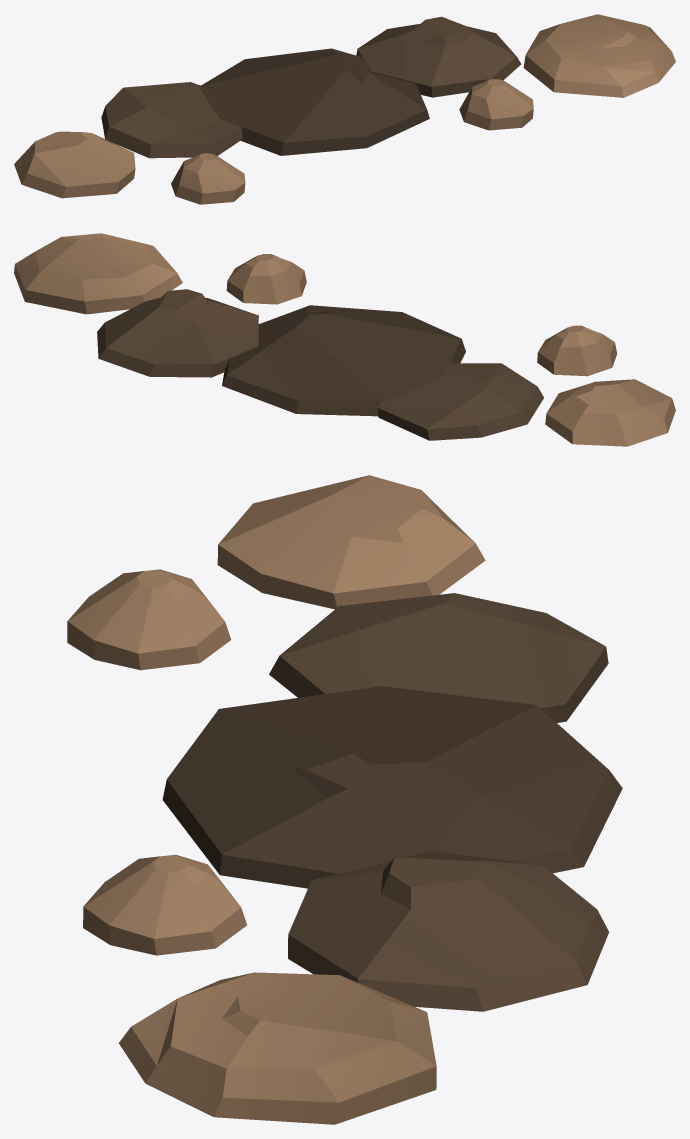
Rendered from ea_swamp_grass_hill_dead_01d_pre_1_lev1.glb.
3 renders of one model, top to bottom at view 1: azimuth 30°, elevation 25°; view 2: azimuth 150°, elevation 25°; view 3: azimuth 270°, elevation 25°, orthographic. The views are drawn at different scales.
Visible parts, largest first — view 1: ea_swamp_grass_hill_dead_01d_pre_1_lev1; view 2: ea_swamp_grass_hill_dead_01d_pre_1_lev1; view 3: ea_swamp_grass_hill_dead_01d_pre_1_lev1.
Part boxes in pixels (x1,y1,x2,y2): ea_swamp_grass_hill_dead_01d_pre_1_lev1: [14, 14, 675, 204]; ea_swamp_grass_hill_dead_01d_pre_1_lev1: [14, 233, 675, 446]; ea_swamp_grass_hill_dead_01d_pre_1_lev1: [67, 475, 622, 1124].
Bounding box in the file's own units: 3.66 × 0.218 × 1.4.
1 material, 1 textured.
